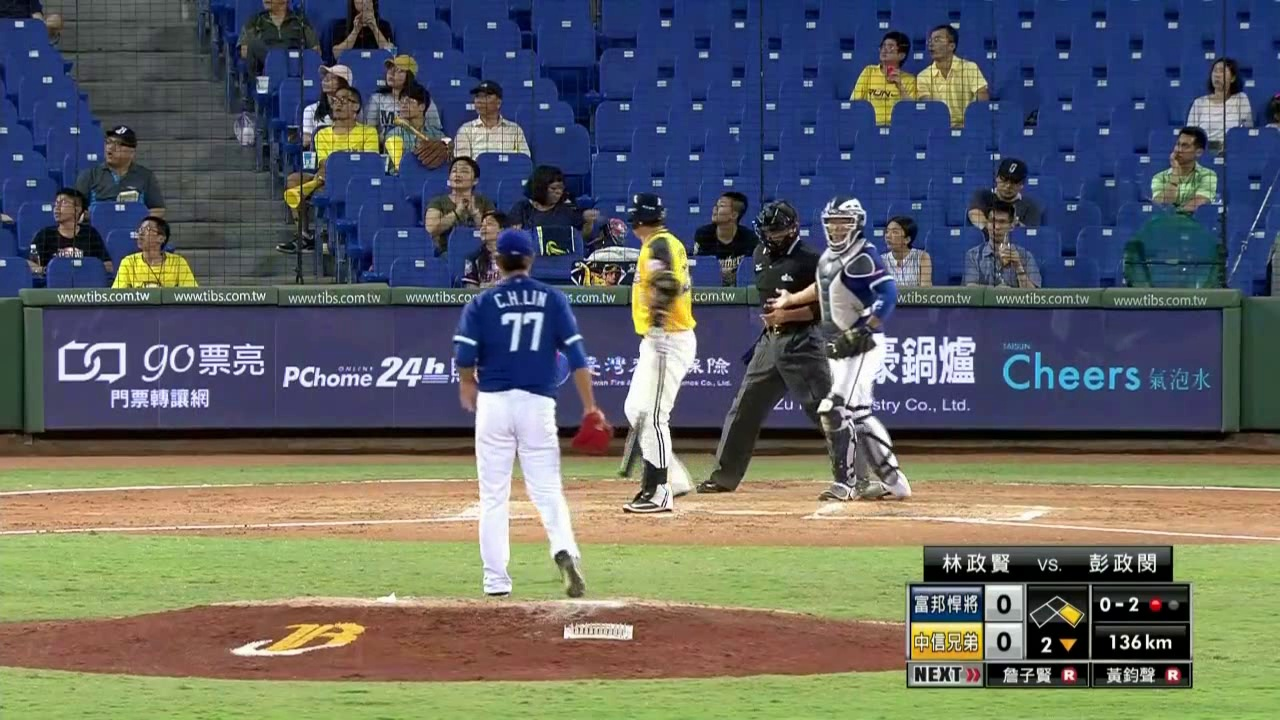base: (1029, 593, 1086, 627)
bat: (613, 391, 650, 481)
out: (1145, 588, 1185, 617)
score1: (986, 588, 1021, 621)
score2: (988, 627, 1021, 659)
session: (1030, 626, 1086, 662)
speed: (1095, 627, 1186, 658)
strikeball: (1094, 589, 1143, 618)
